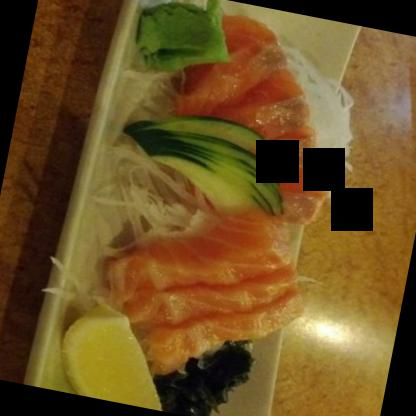salmon: (152, 0, 357, 222), (103, 186, 323, 390)
